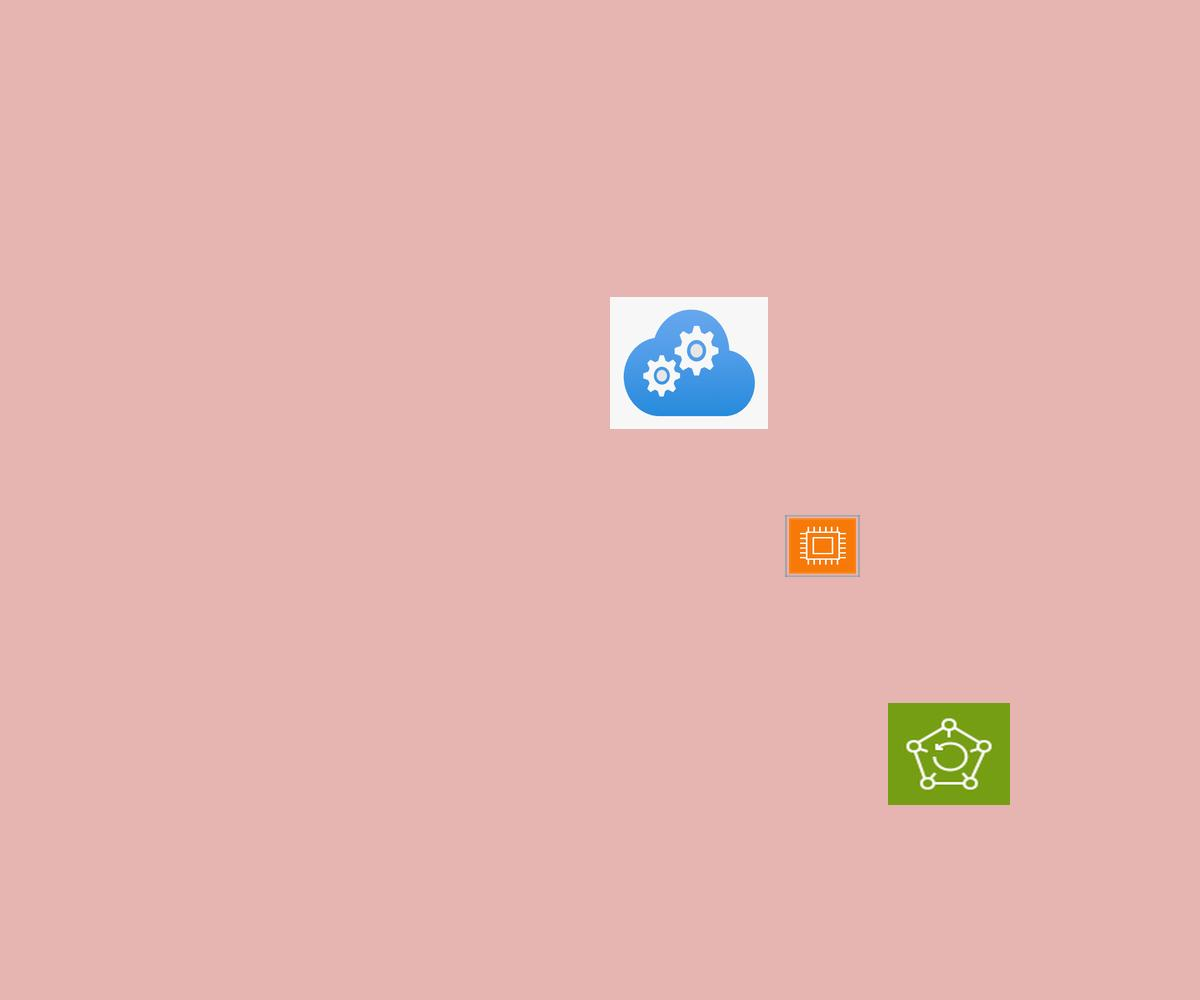AWS-Backup: (888, 703, 1010, 805)
AWS-Category_Compute: (785, 515, 860, 577)
Azure_cloud_services: (610, 297, 768, 429)
